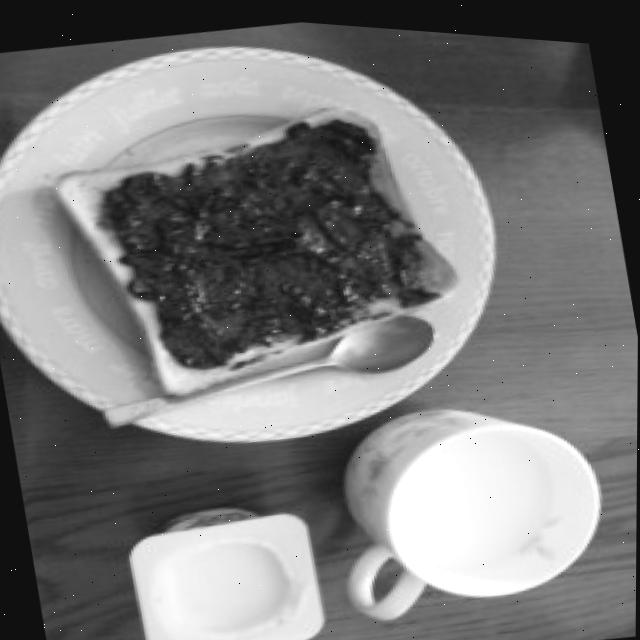面包点心: (41, 70, 459, 420)
